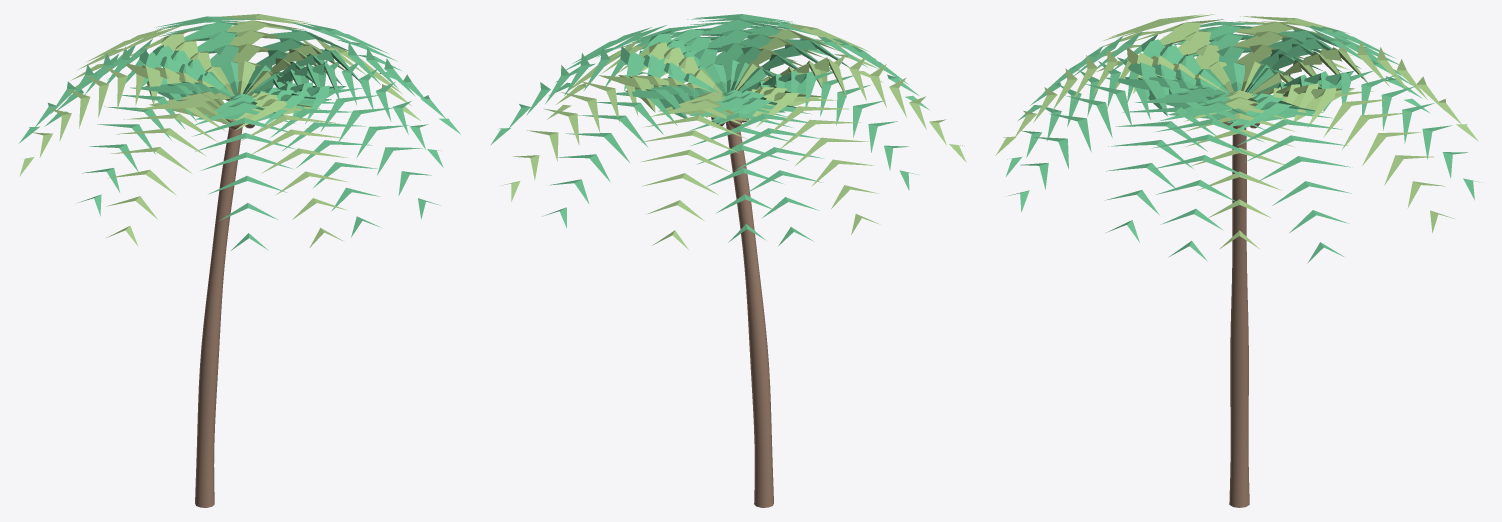
The model's file is palm_0.glb.
The picture shows the model from 3 angles, left to right: view 1: azimuth 30°, elevation 25°; view 2: azimuth 150°, elevation 25°; view 3: azimuth 270°, elevation 25°; orthographic projection. The views are drawn at different scales.
Visible parts, largest first — view 1: Coconut.004; view 2: Coconut.004; view 3: Coconut.004.
Boxes of the visible parts, x1,y1,x2,y2 form: Coconut.004: (19,14,460,507); Coconut.004: (490,14,966,507); Coconut.004: (995,14,1481,507).
Bounding box in the file's own units: 8.93 × 9.55 × 9.25.
